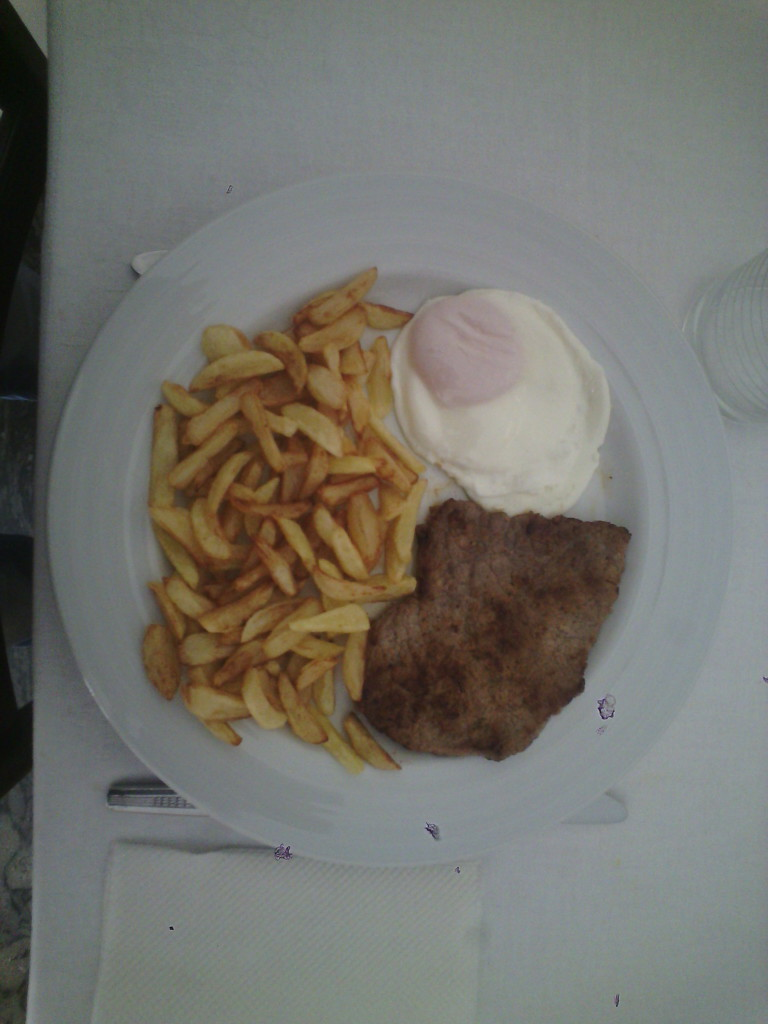81-100: (52, 168, 737, 871)
